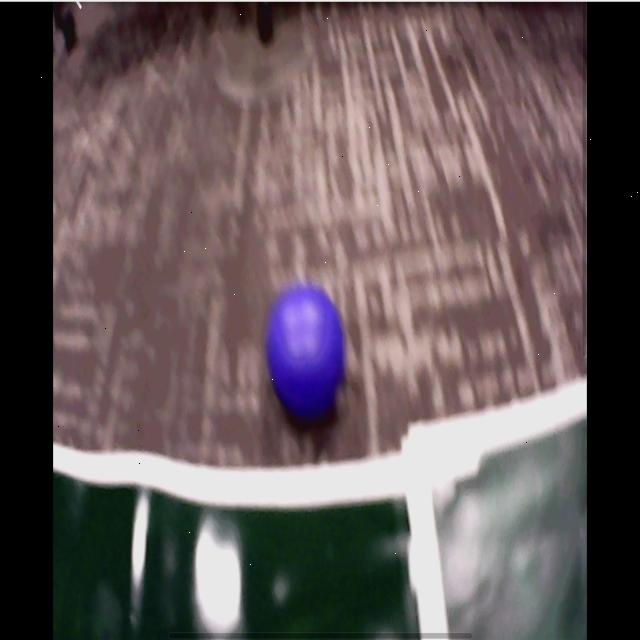ball: (267, 286, 345, 420)
